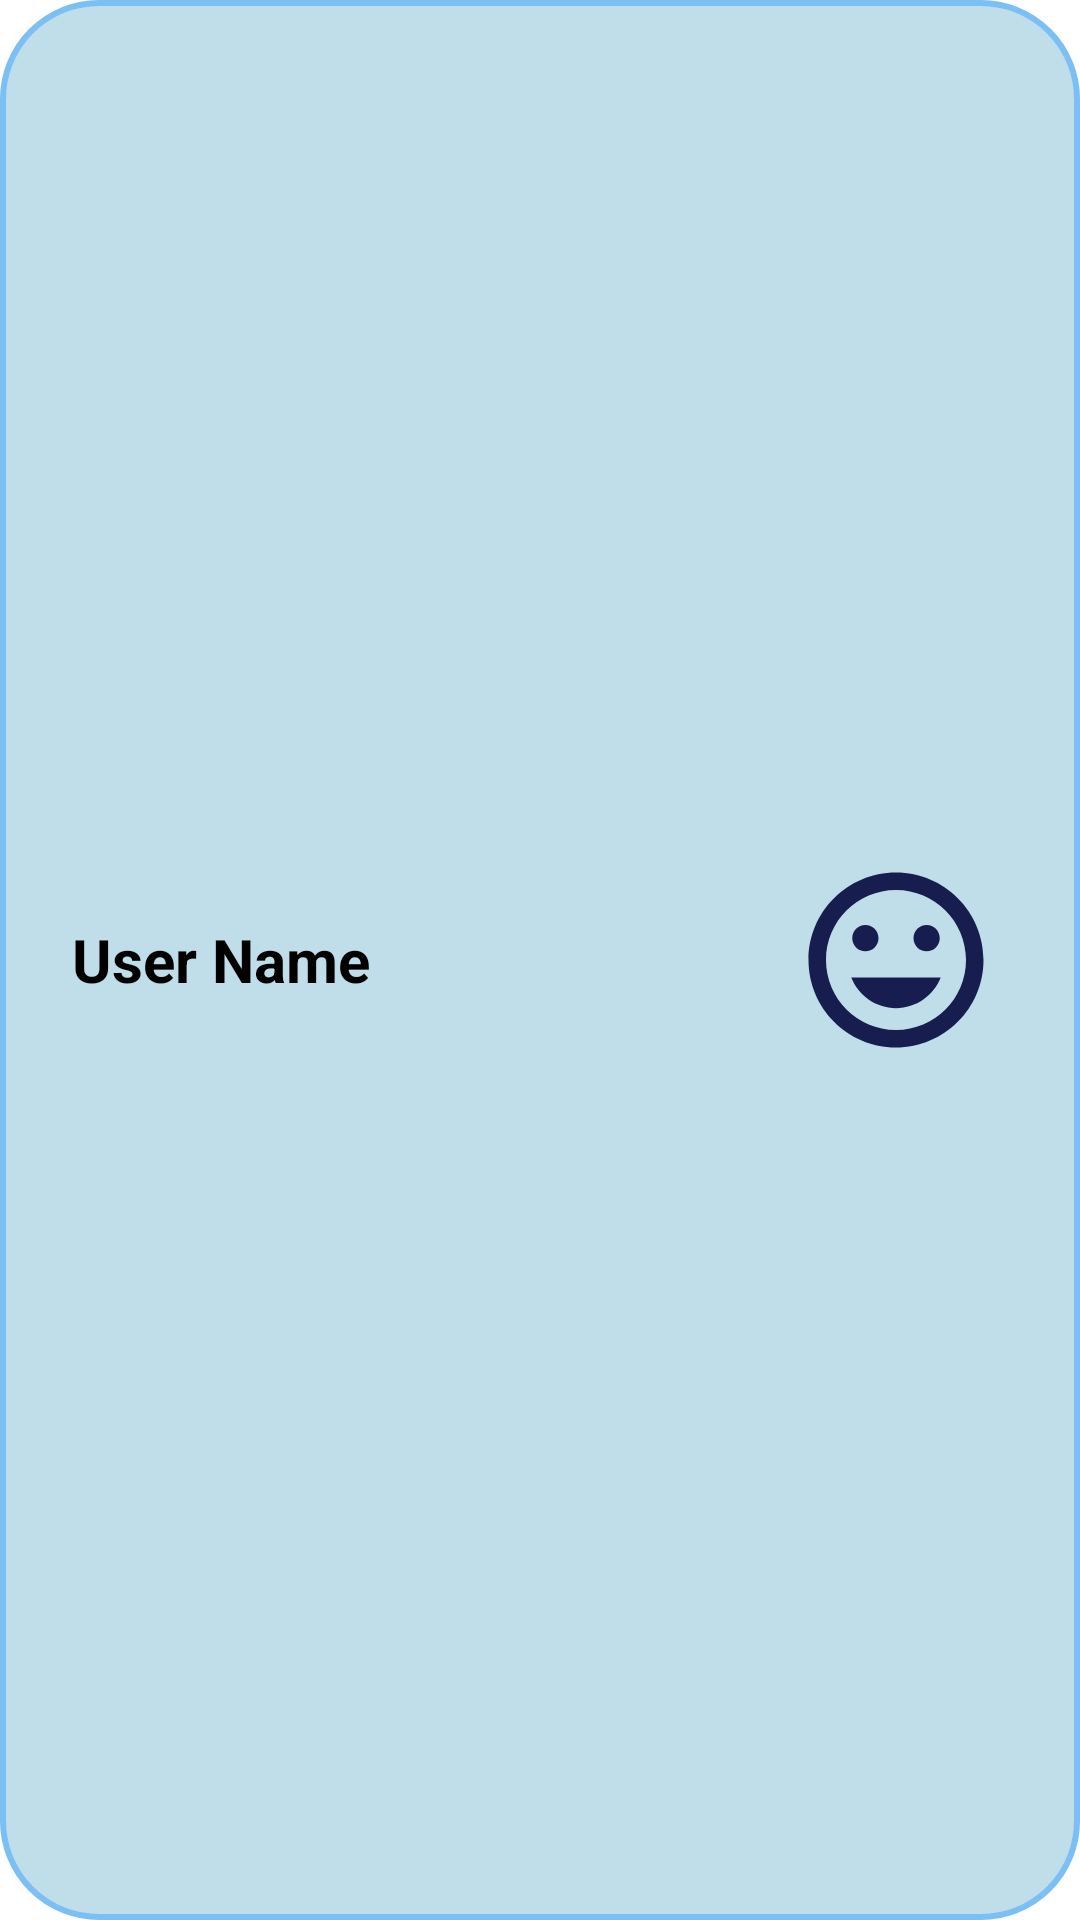

Icons on this 1080px×1920px Android screen, each with its box as bbox=[x1, y1, x2, y2]:
mood: bbox=[808, 872, 984, 1048]
